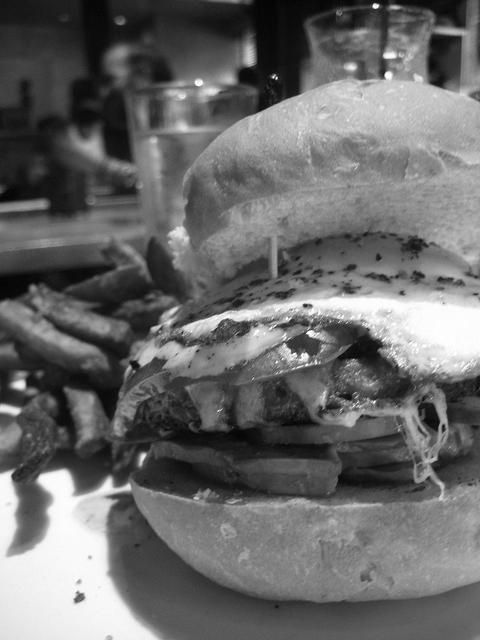glass: (127, 81, 257, 243), (278, 0, 444, 91)
